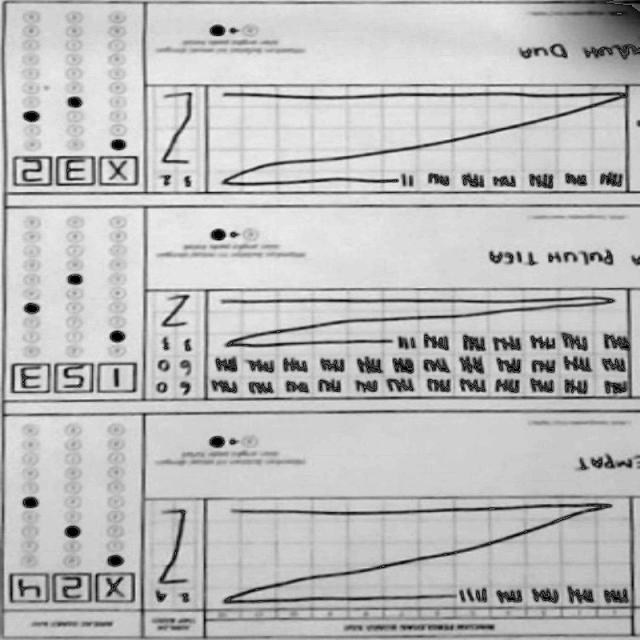Suara: (11, 150, 144, 190), (7, 362, 144, 398), (8, 574, 138, 605)
